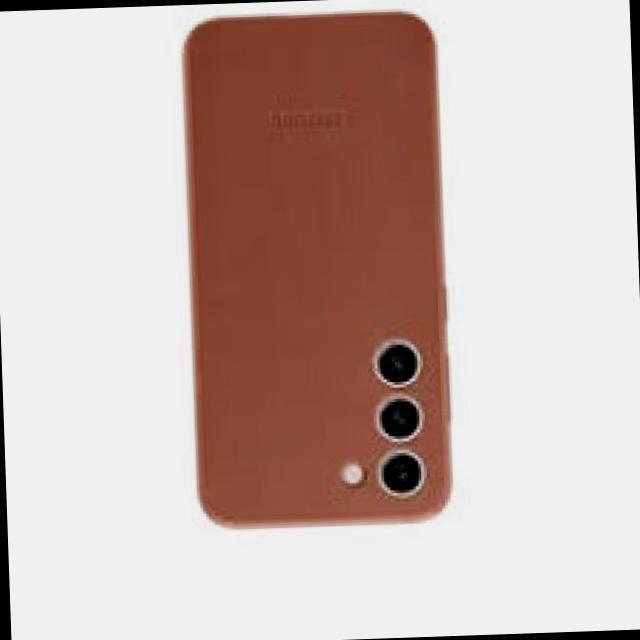lens: (354, 328, 432, 506)
phone: (181, 11, 454, 534)
